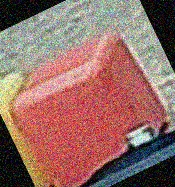orange_cube: (13, 37, 167, 142)
